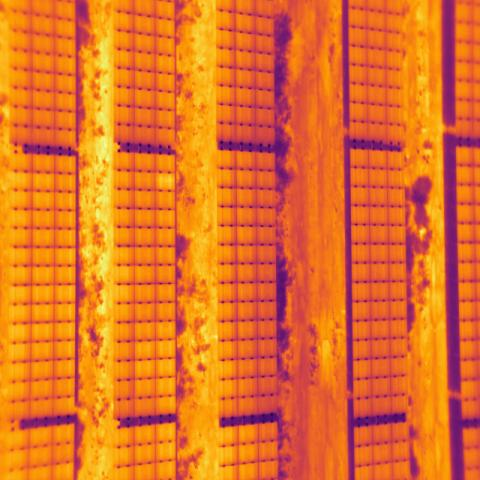fault: (155, 171, 176, 192)
